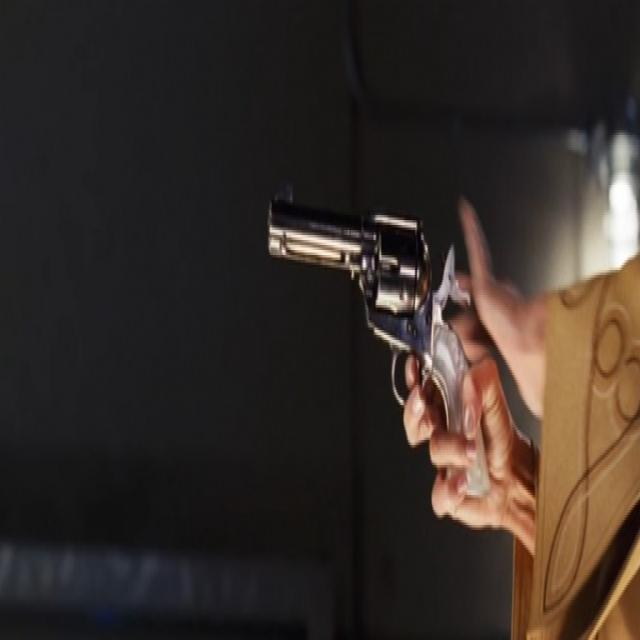weapons: (253, 146, 493, 543)
